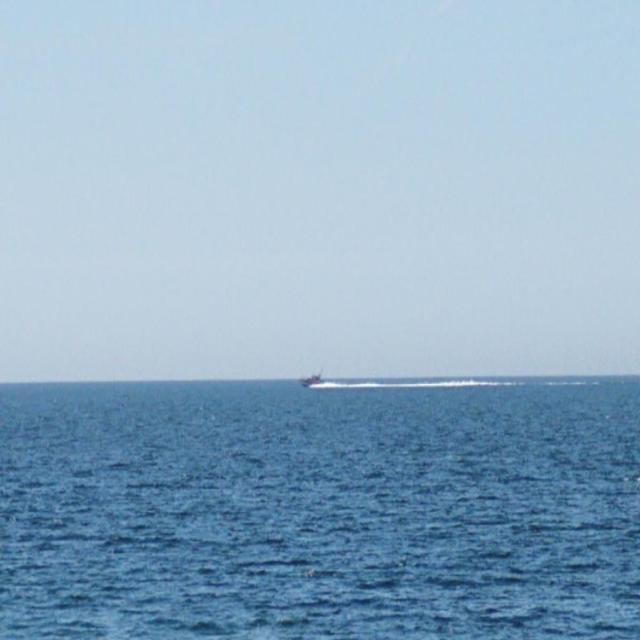houseboat: (296, 363, 332, 393)
